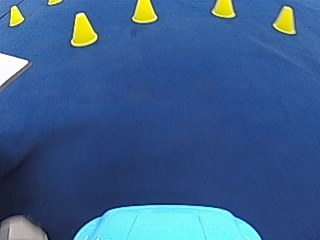cone: (69, 10, 98, 46), (272, 5, 297, 33), (131, 0, 157, 22), (212, 0, 235, 17), (8, 5, 24, 25)
